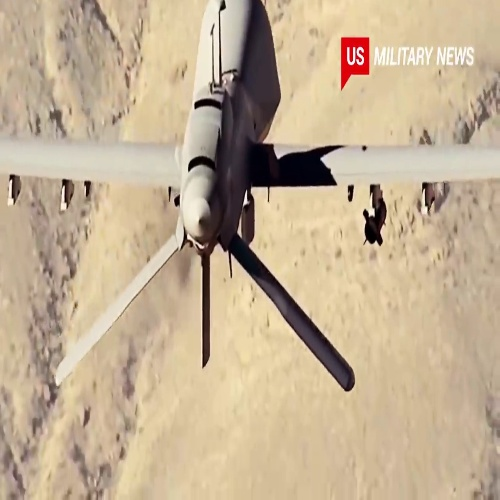uav: (1, 1, 500, 390)
